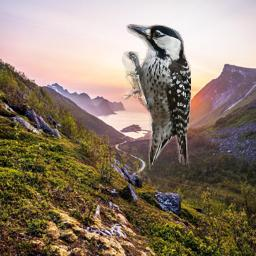Woodpecker: (121, 24, 191, 170)
